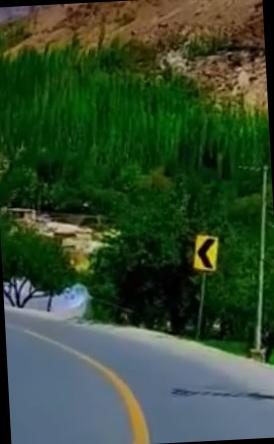right_turn: (1, 234, 68, 332), (184, 229, 226, 276)
